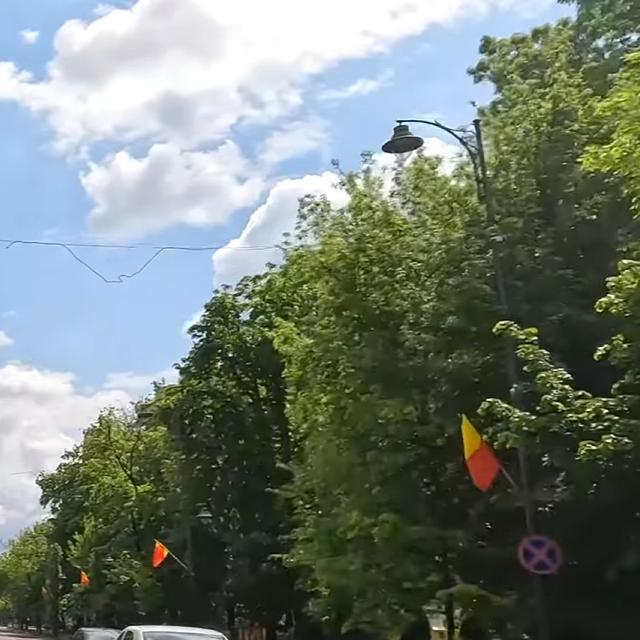forb_waiting: (517, 533, 562, 574)
